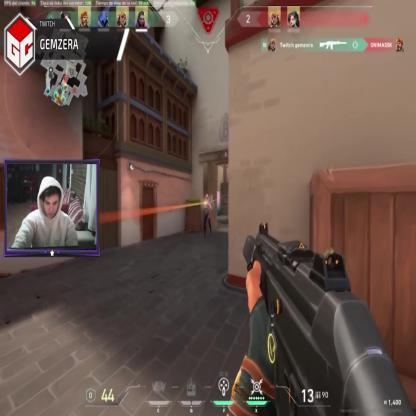enemy: (203, 193, 212, 236)
enemy_head: (206, 193, 209, 200)
